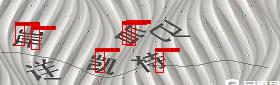chinese: (116, 21, 148, 48), (133, 52, 169, 76), (86, 53, 119, 78), (13, 25, 45, 48), (24, 60, 60, 80), (151, 15, 181, 39)
